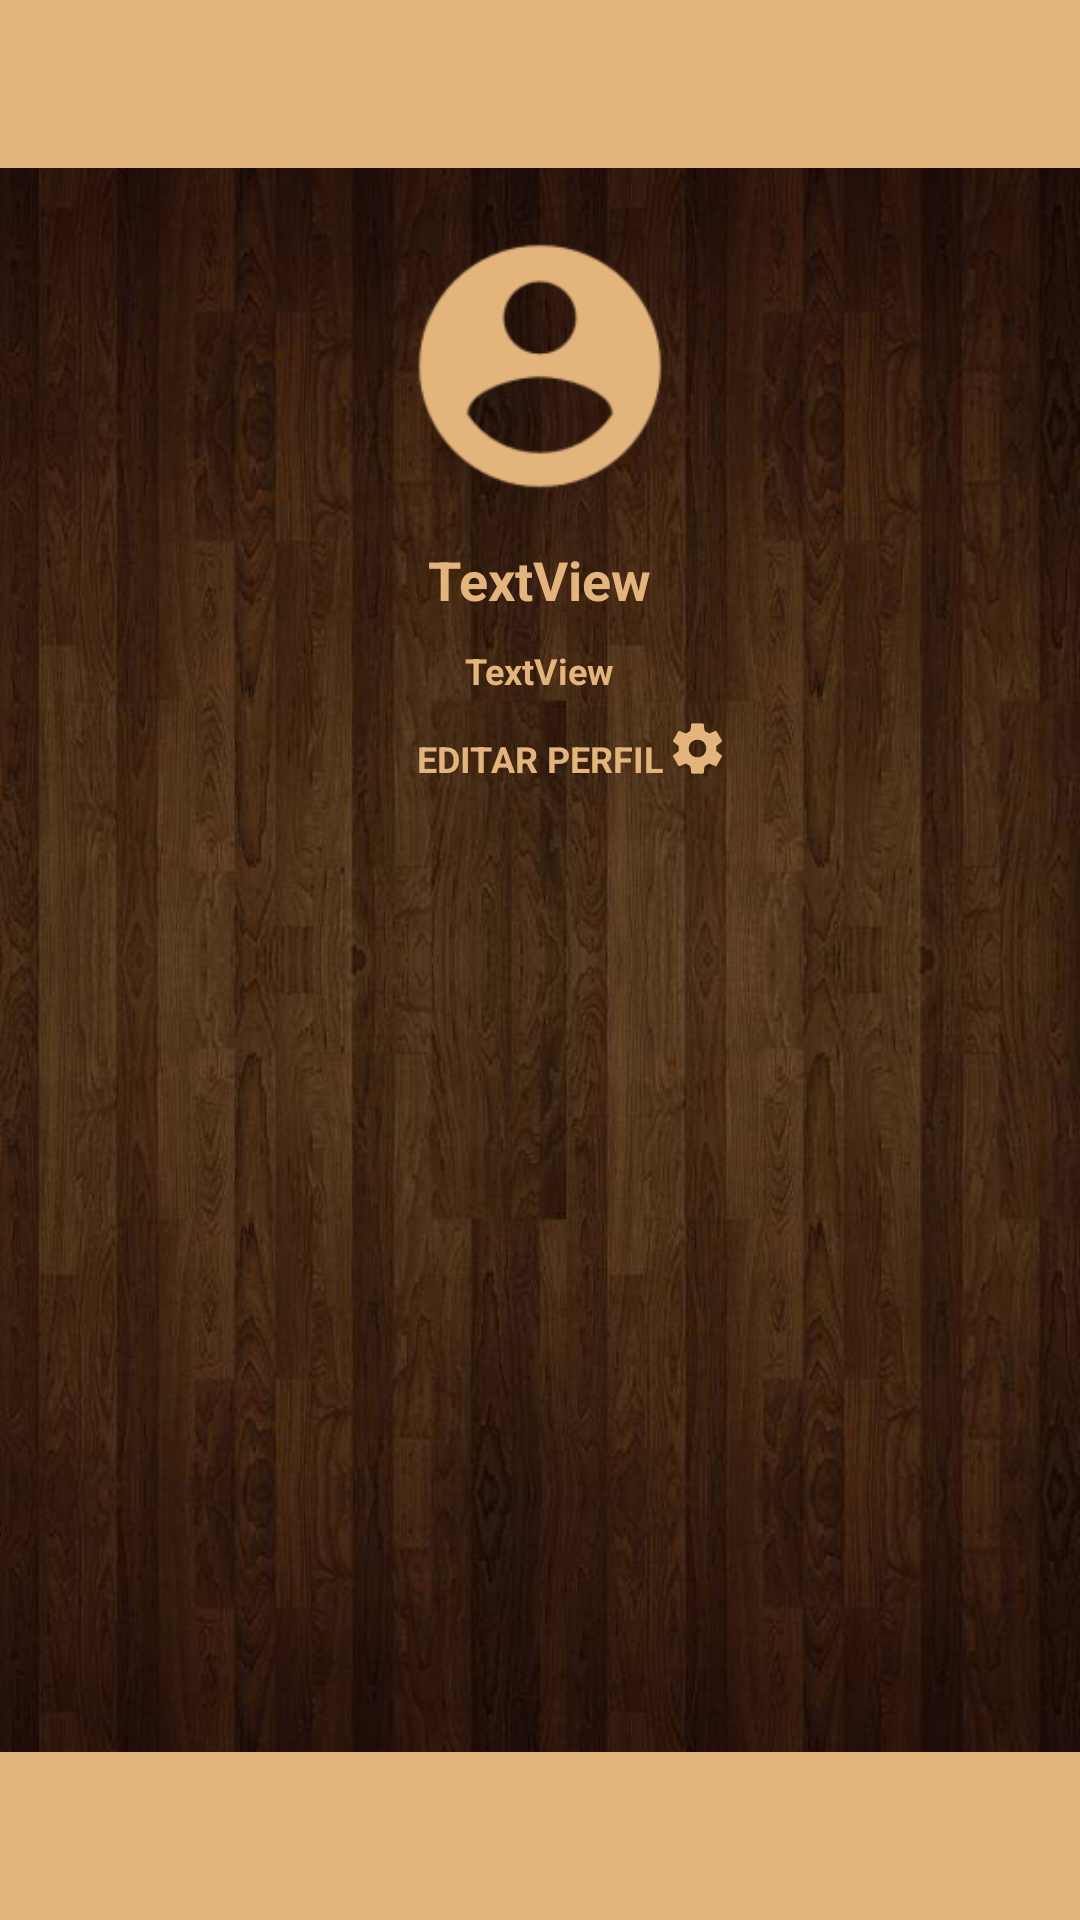

Locate icon controls on the screen. Image size 1080 × 1920, boxes as (x1, y1, x2, y2).
config: (673, 714, 722, 775)
perfil: (395, 244, 683, 516)
